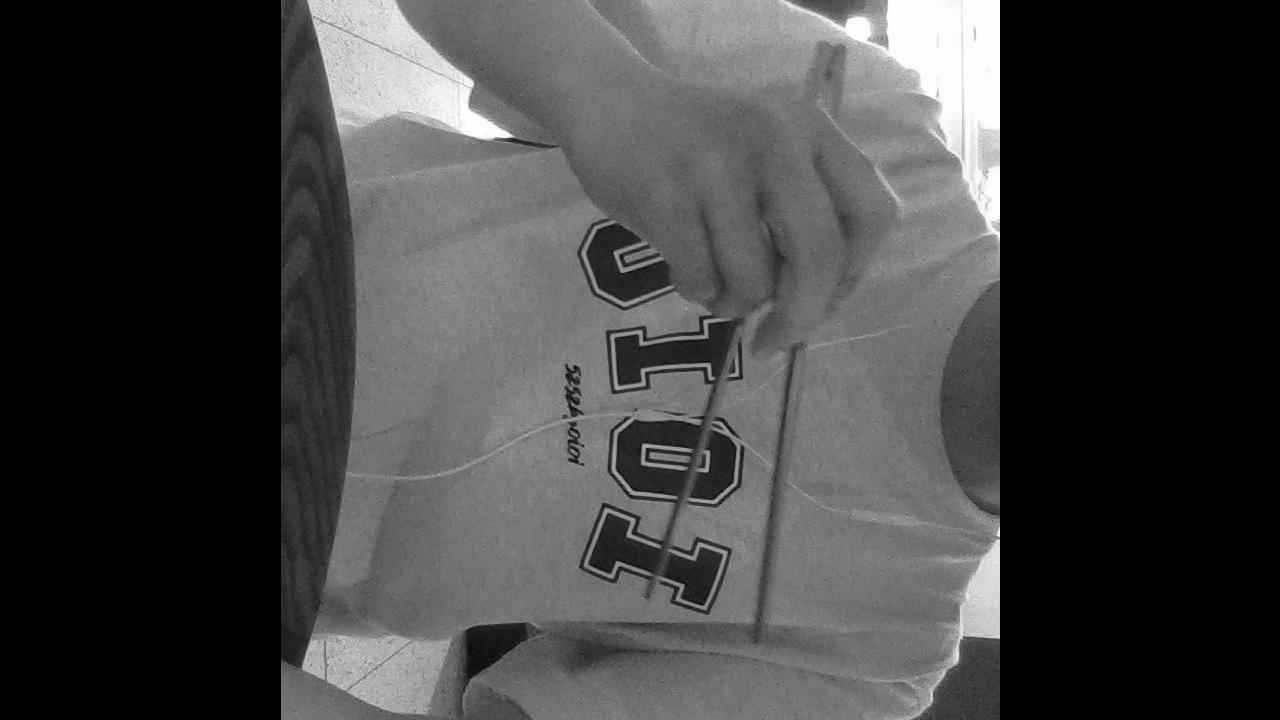chopstick: (640, 41, 829, 603), (750, 43, 846, 647)
hand: (567, 76, 900, 363)
